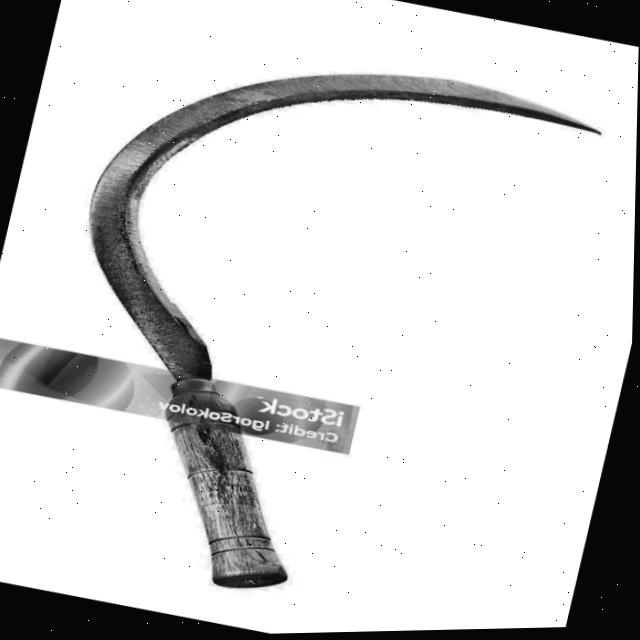celurit: (85, 59, 616, 599)
